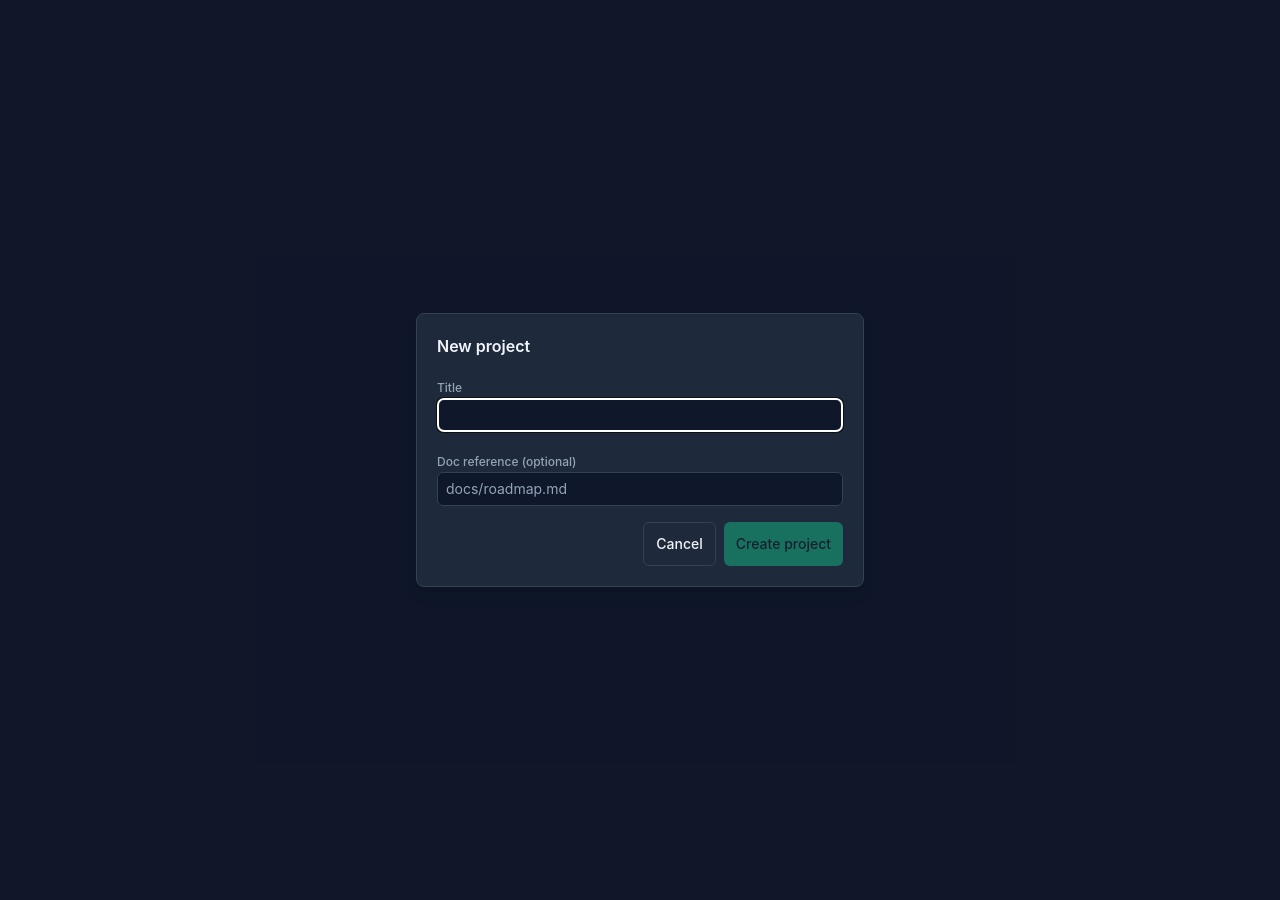
Test: NewProjectModal › reports non-Error rejections via String(err)
Type "Doomed" into the field with test id "new-project-title" at (640, 415), box [437,398,843,432]
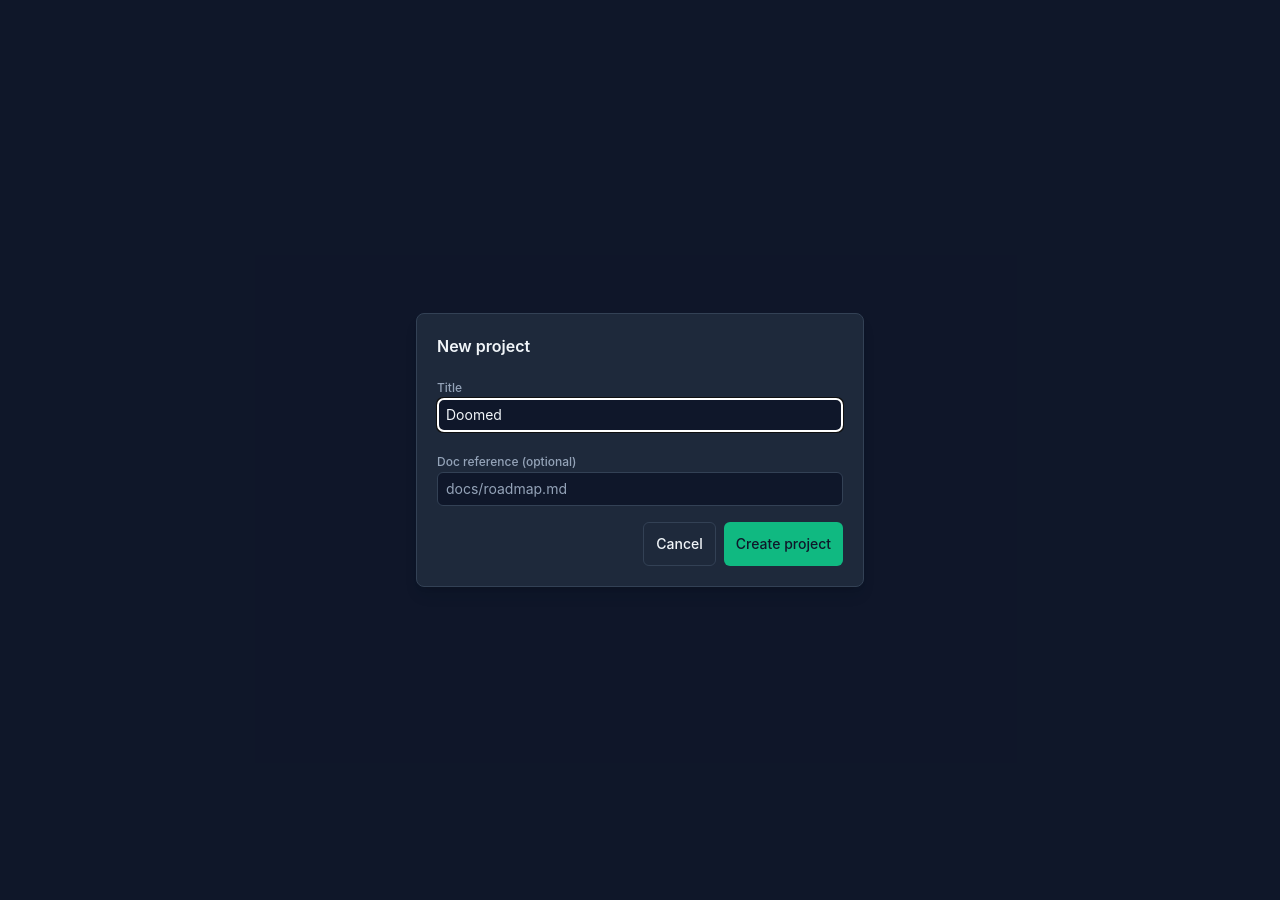
Click the button with test id "new-project-submit" at (783, 544), box [724,522,843,566]
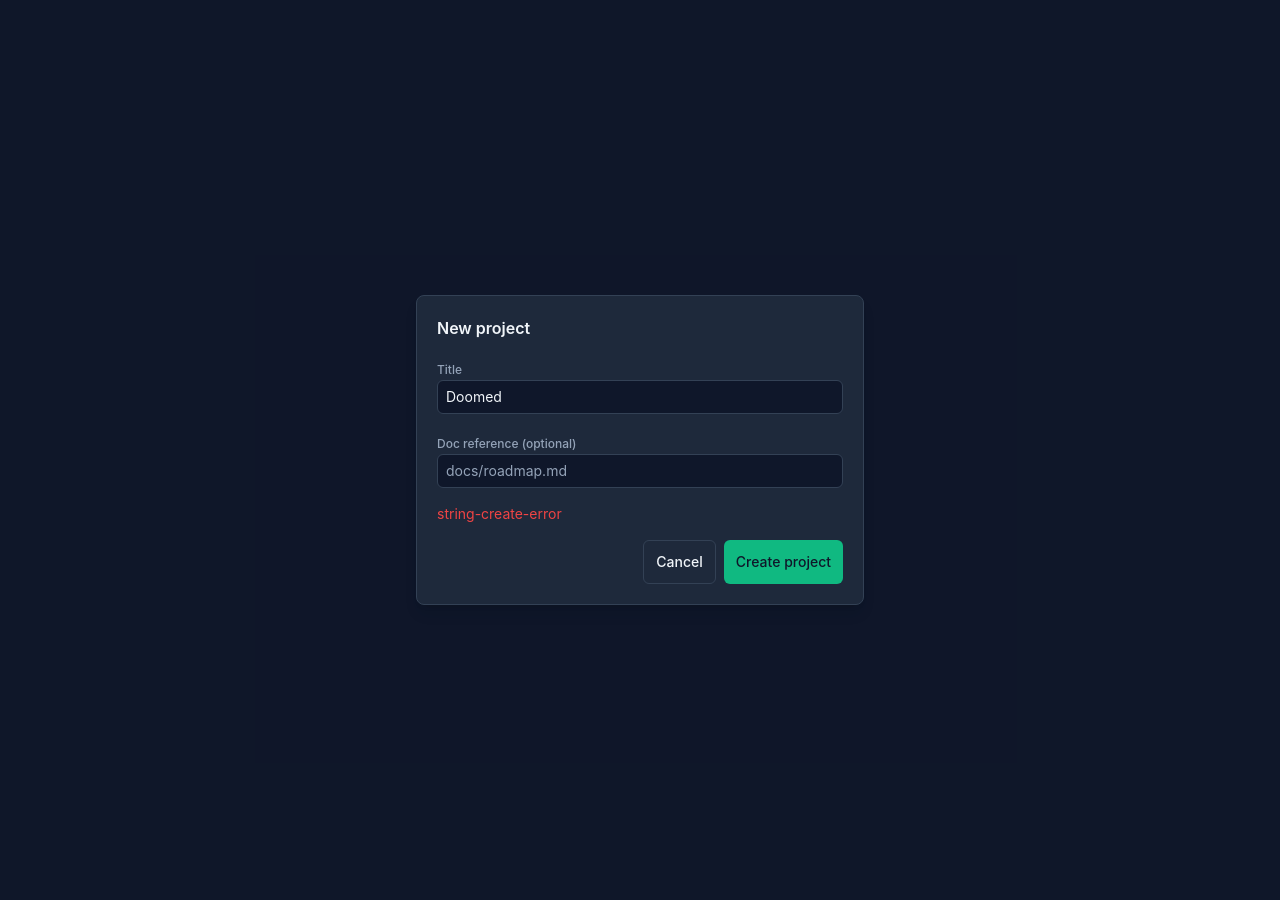
Result: the message with test id "new-project-error" reads "string-create-error" at [437,505,562,522]
